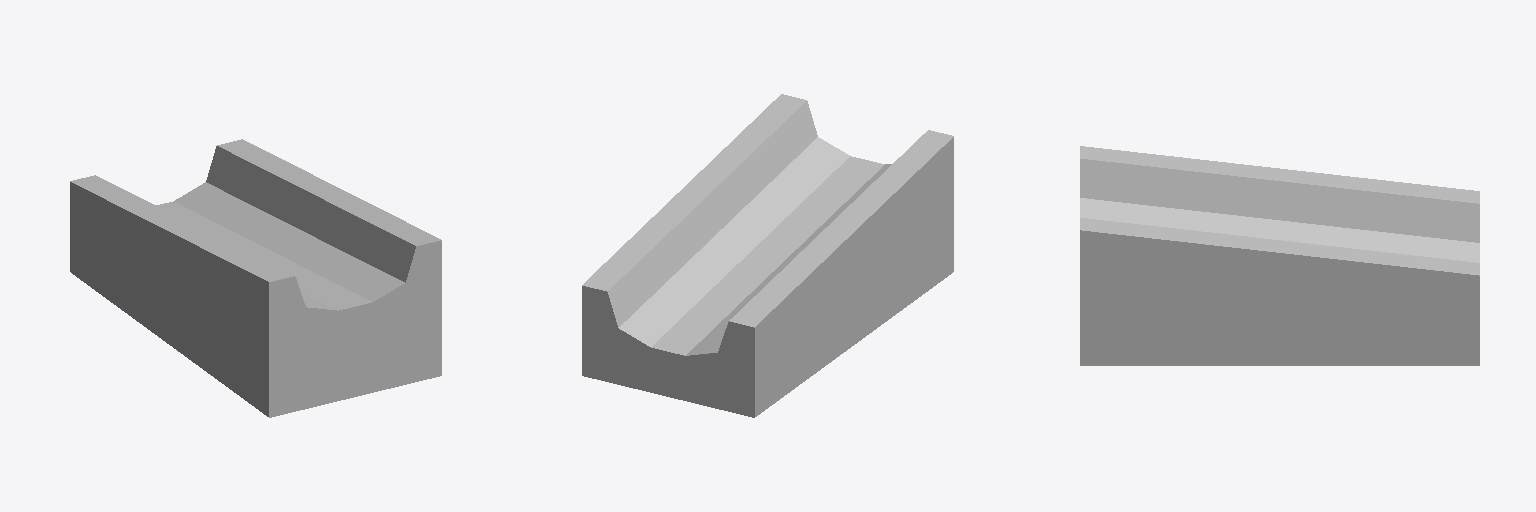
The model's file is slant-solid-long-a.obj.
3 renders of one model, left to right at view 1: azimuth 30°, elevation 25°; view 2: azimuth 150°, elevation 25°; view 3: azimuth 270°, elevation 25°, orthographic.
Parts seen in each view (by area): view 1: slant-solid-long-a; view 2: slant-solid-long-a; view 3: slant-solid-long-a.
Boxes of the visible parts, x1=… form: slant-solid-long-a: x1=70, y1=139, x2=441, y2=417; slant-solid-long-a: x1=582, y1=94, x2=953, y2=417; slant-solid-long-a: x1=1080, y1=146, x2=1479, y2=365.
Bounding box in the file's own units: 1 × 0.75 × 2.